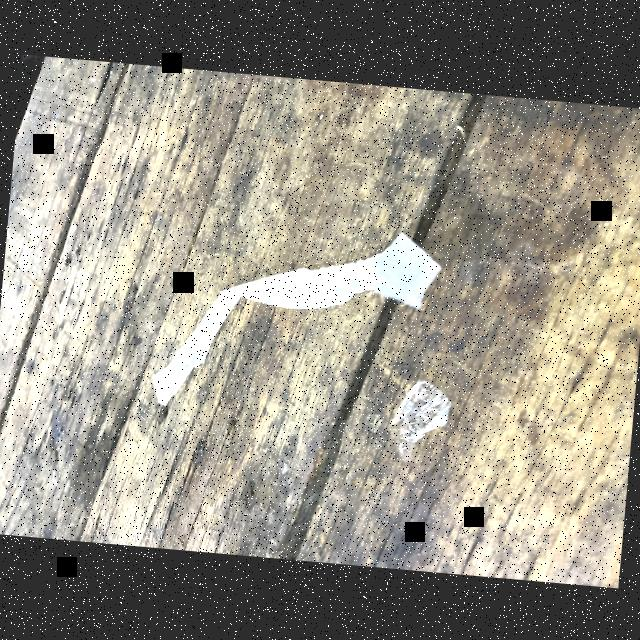scrap_plastic: (132, 202, 449, 427), (380, 372, 459, 454)
